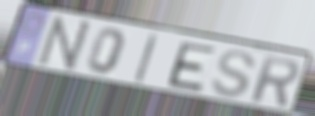0: (85, 26, 128, 78)
E: (165, 41, 218, 94)
I: (131, 32, 160, 86)
N: (34, 14, 94, 75)
R: (249, 54, 301, 109)
S: (209, 49, 258, 100)
